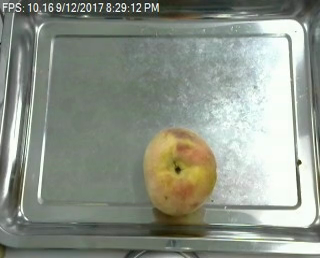Peach: (142, 126, 217, 216)
